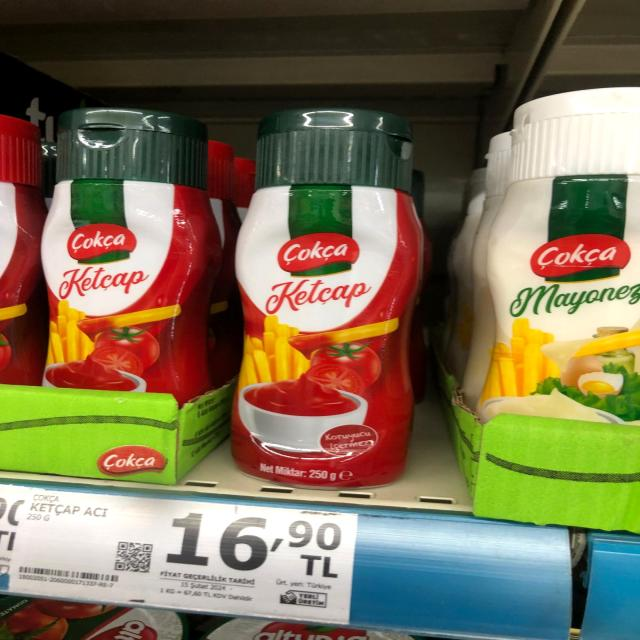ketchup: (211, 102, 449, 490), (34, 102, 225, 411)
mayonnaise: (468, 85, 640, 443)
